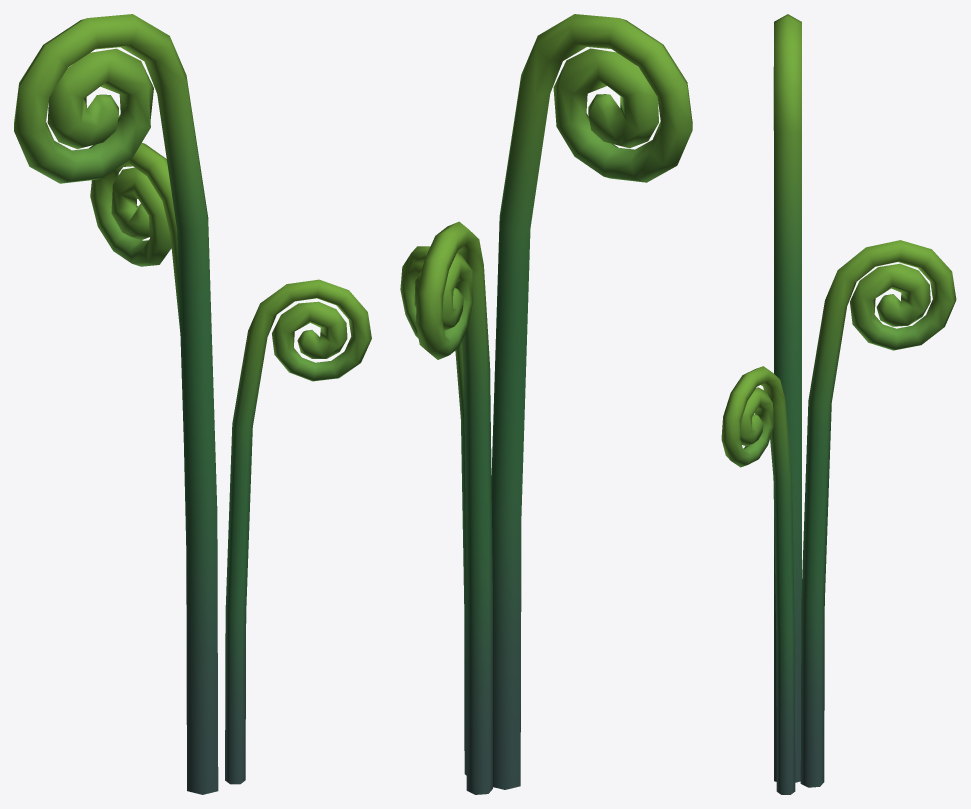
Rendered from Plant_034.glb.
The picture shows the model from 3 angles, left to right: view 1: azimuth 30°, elevation 25°; view 2: azimuth 150°, elevation 25°; view 3: azimuth 270°, elevation 25°; orthographic projection. The views are drawn at different scales.
Parts seen in each view (by area): view 1: Spiral; view 2: Spiral; view 3: Spiral.
Part boxes in pixels (x1,y1,x2,y2): Spiral: (14,14,371,794); Spiral: (400,14,692,794); Spiral: (721,14,956,794).
Size of the model in its own units: 1.05 by 2.46 by 0.7378.
Materials: 1 (1 with a texture image).
